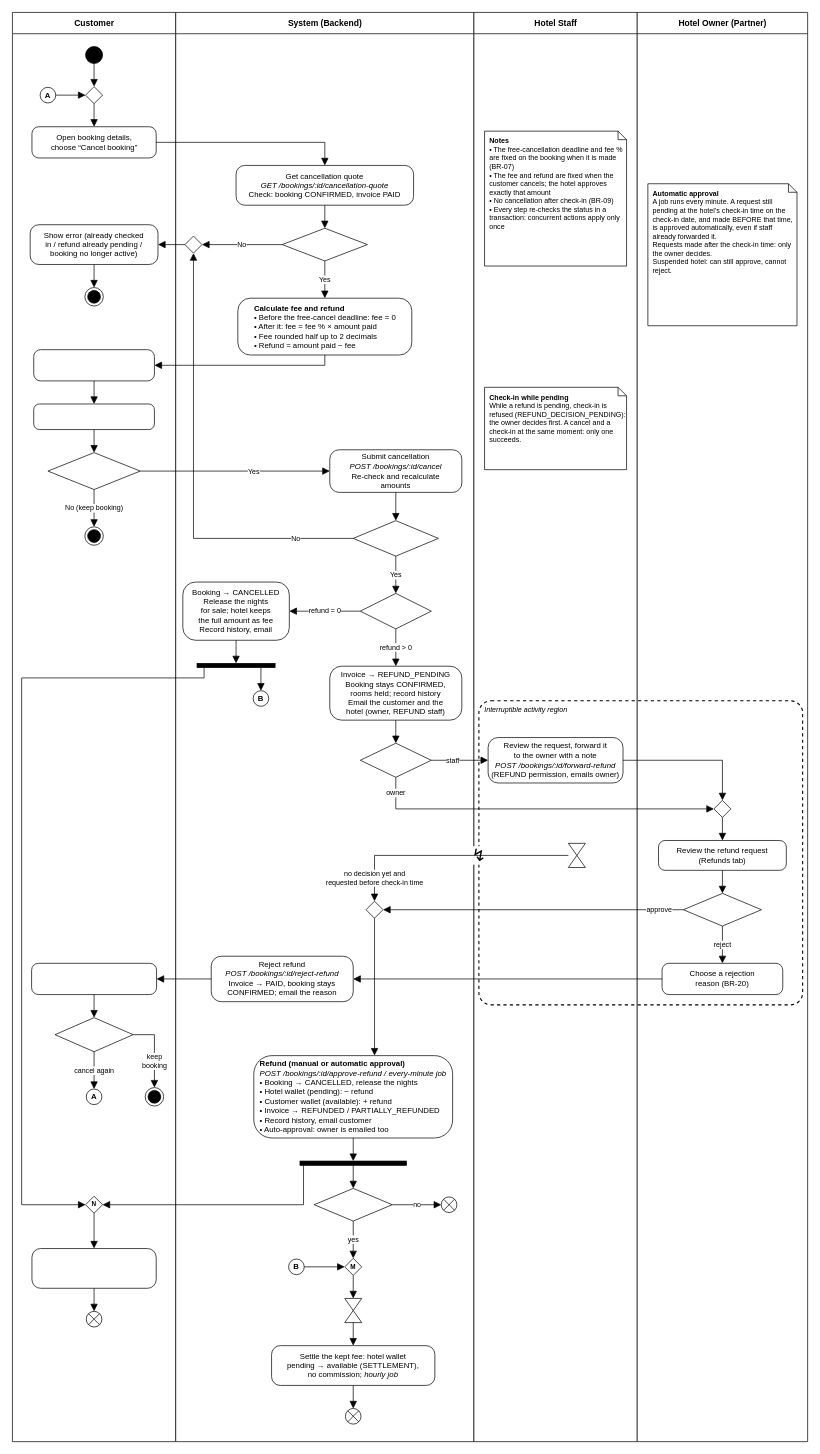
This 820x1454 diagram has some shape labels left out. The centre of each missing label's shape, as x and y in pixels:
"1 day after the cancellation (WALLET_HOLD_DAYS)" belongs at point 353,1310.
"Cancellable?" belongs at point 324,244.
"Check-in time reached" belongs at point 576,855.
"Confirm cancellation?" belongs at point 93,471.
"Customer’s choice?" belongs at point 93,1034.
"Decision?" belongs at point 722,909.
"Enter cancellation reason" belongs at point 93,416.
"Fee kept?" belongs at point 352,1204.
"Receive the rejection email (reason shown on the booking)" belongs at point 94,979.
"Receive the result email (cancelled / refund credited to the StayReco wallet)" belongs at point 93,1268.
"Refund amount?" belongs at point 395,611.
"Review the cancellation fee and refund amount" belongs at point 93,365.
"Still cancellable?" belongs at point 395,538.
"Who handles it?" belongs at point 395,760.
